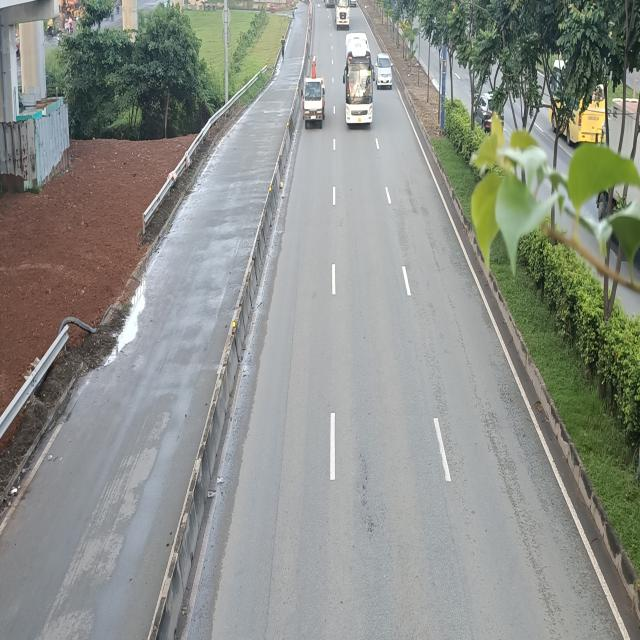car: (376, 55, 394, 90)
coach: (343, 31, 375, 126)
truck: (302, 79, 327, 129)
